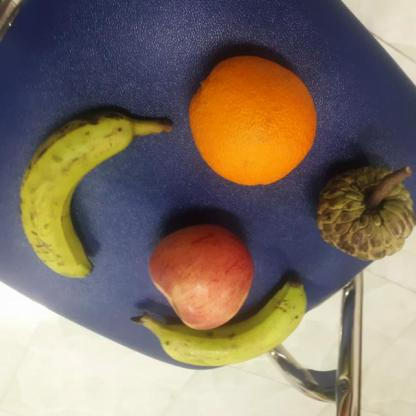annona: (317, 164, 416, 264)
apple: (144, 218, 256, 332)
banana: (17, 107, 133, 277)
orange: (189, 53, 317, 187)
